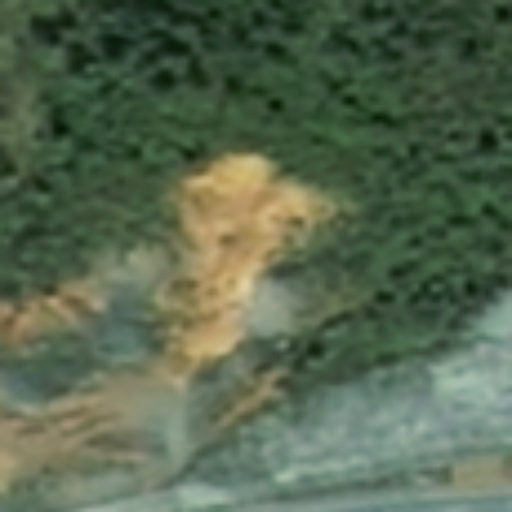landslide: (167, 150, 334, 366)
